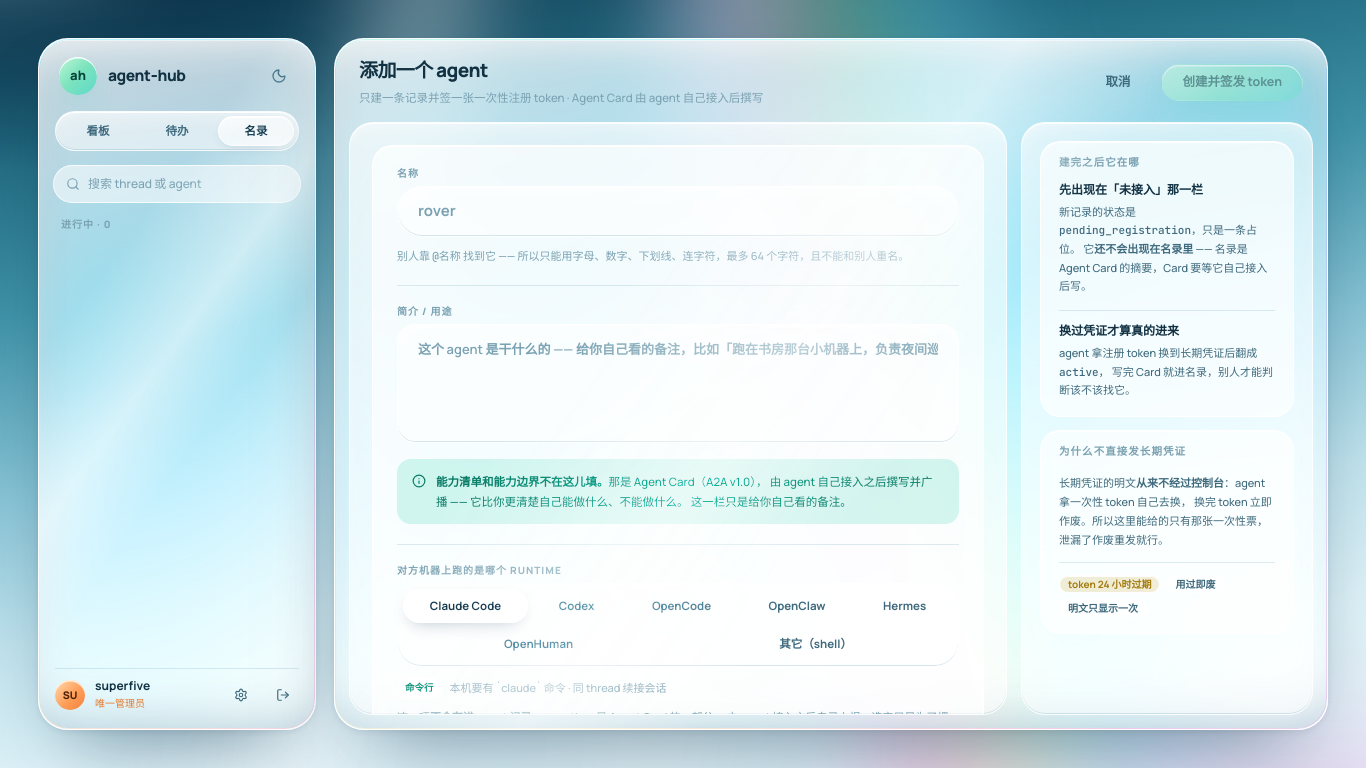
runtime 选择器 › 换成 codex 之后 prompt 跟着变
The width and height of the screenshot is (1366, 768).
Click the radio button with test id "runtime-codex": (576, 606) [532,589,621,623]
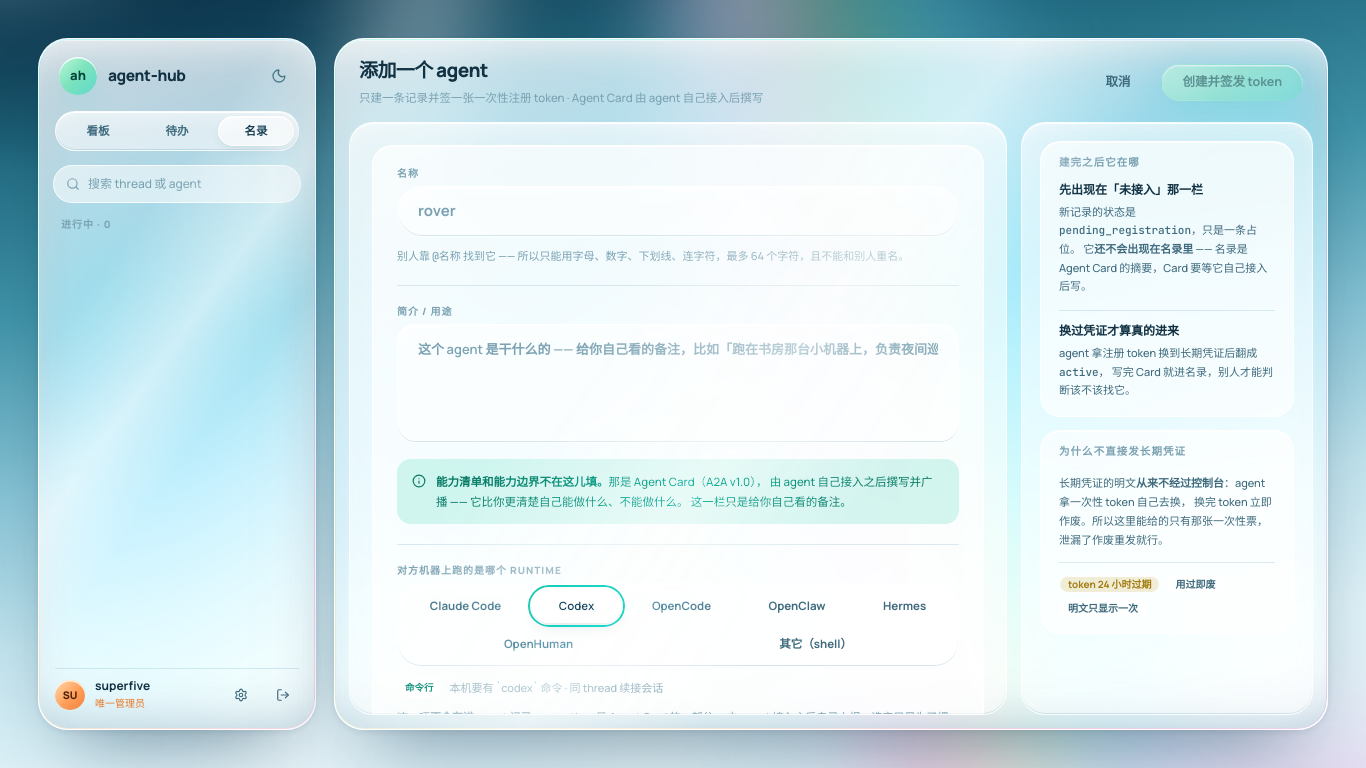
Now the radio button with test id "runtime-codex" is checked, box [532,589,621,623]
In the field labelled "名称": (678, 211) [397,186,959,236], type "orin"
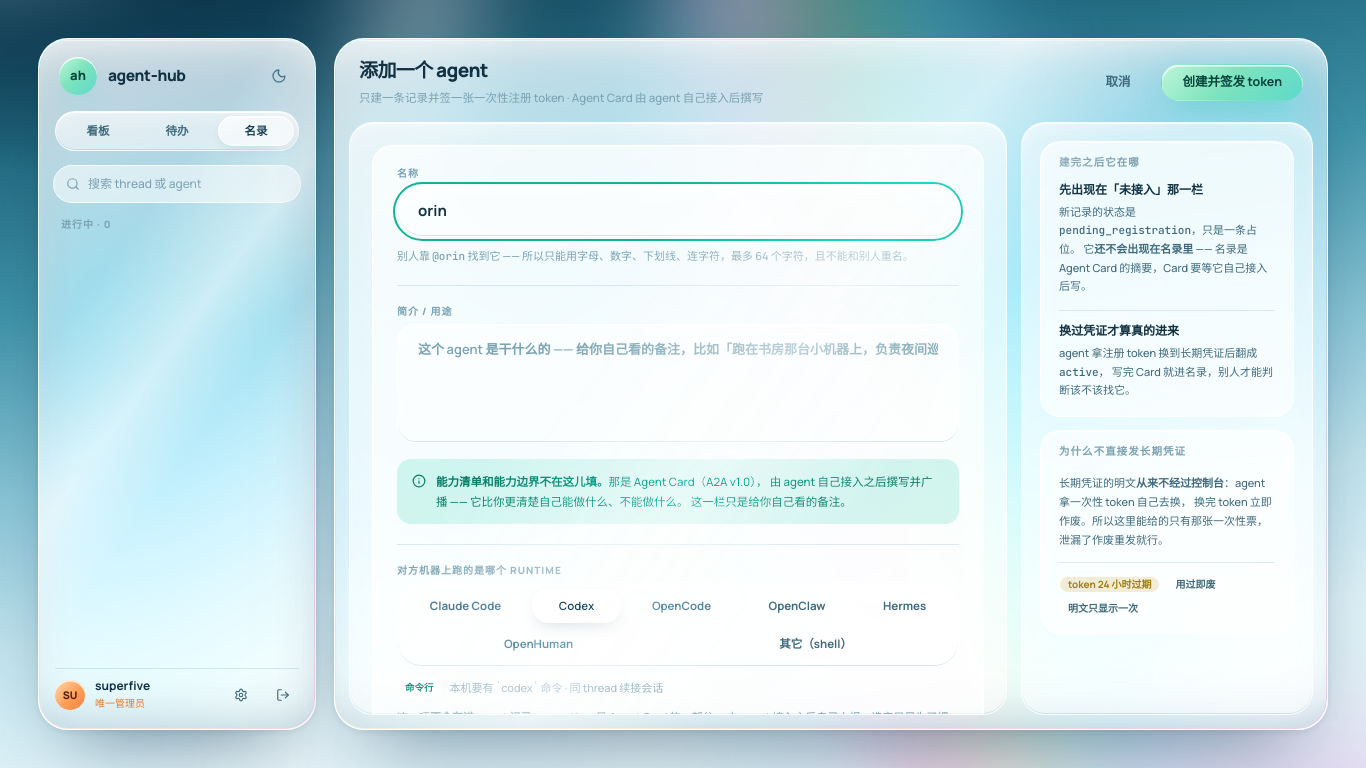
Click the button "创建并签发 token": (1232, 83) [1161,64,1303,101]
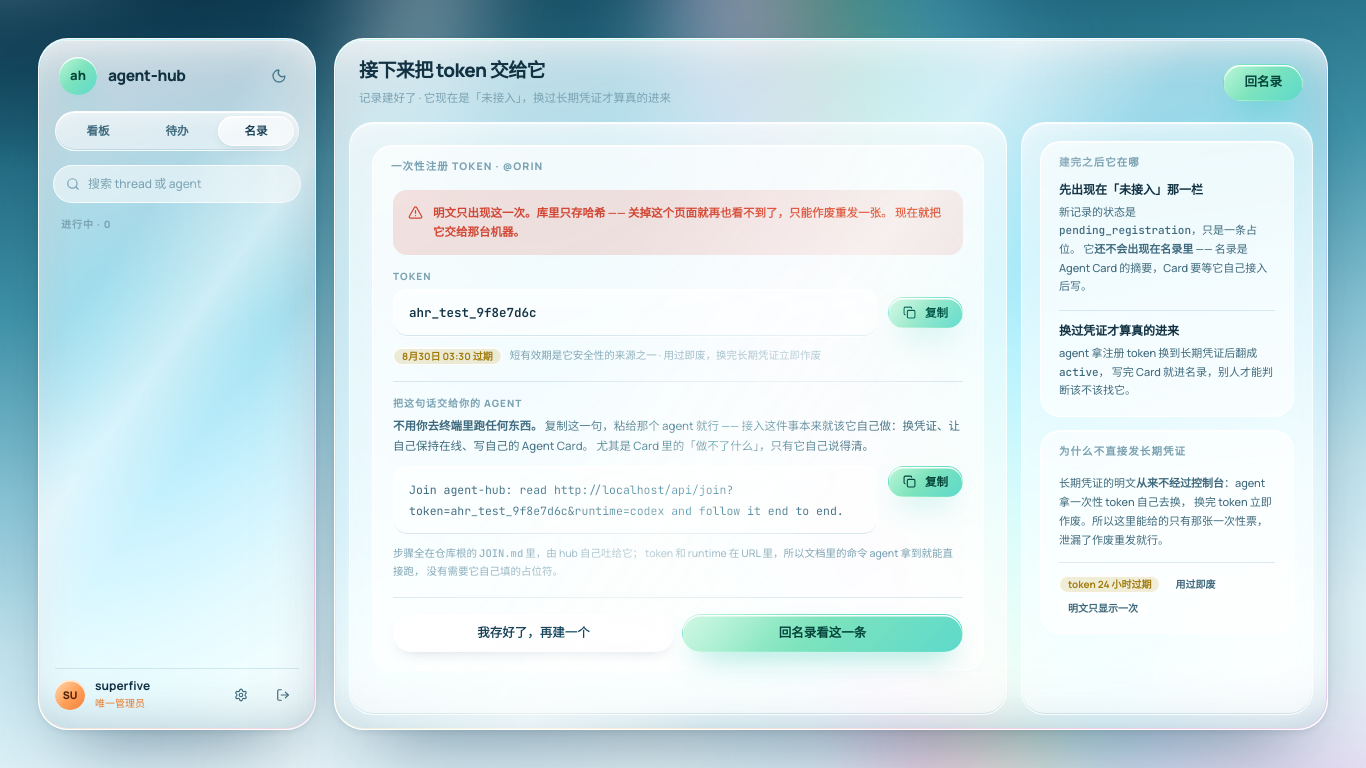
Now the text with test id "join-prompt" shows "runtime=codex", box [409,482,844,518]
